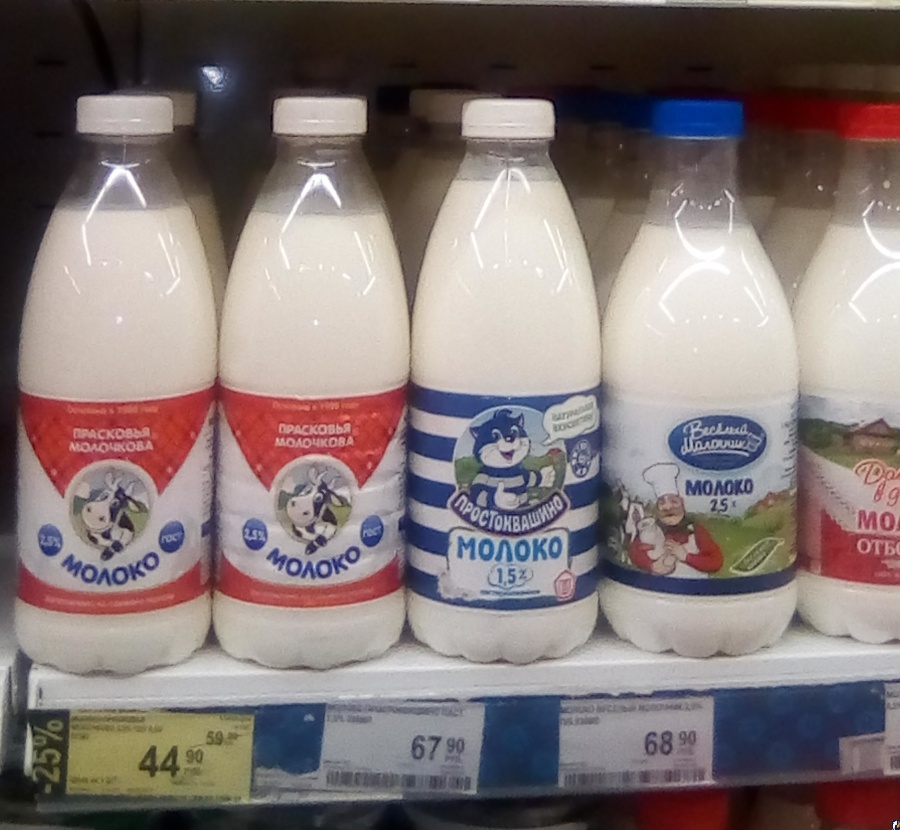milk: (20, 87, 236, 679), (605, 96, 814, 666), (408, 98, 617, 660), (220, 85, 416, 667), (801, 86, 900, 647)
